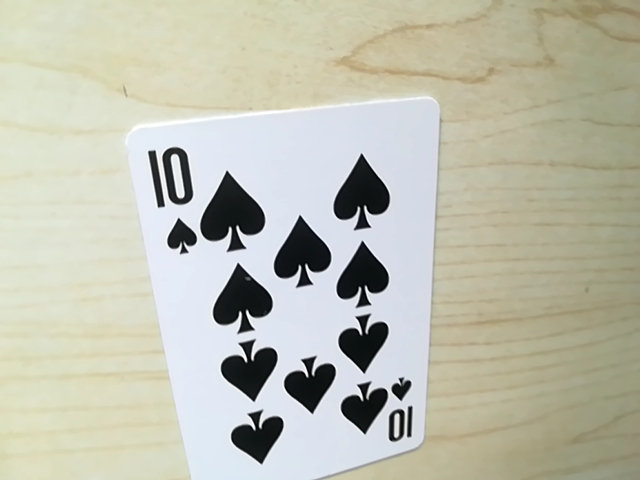ht 10: (145, 130, 204, 256), (367, 385, 419, 446)
